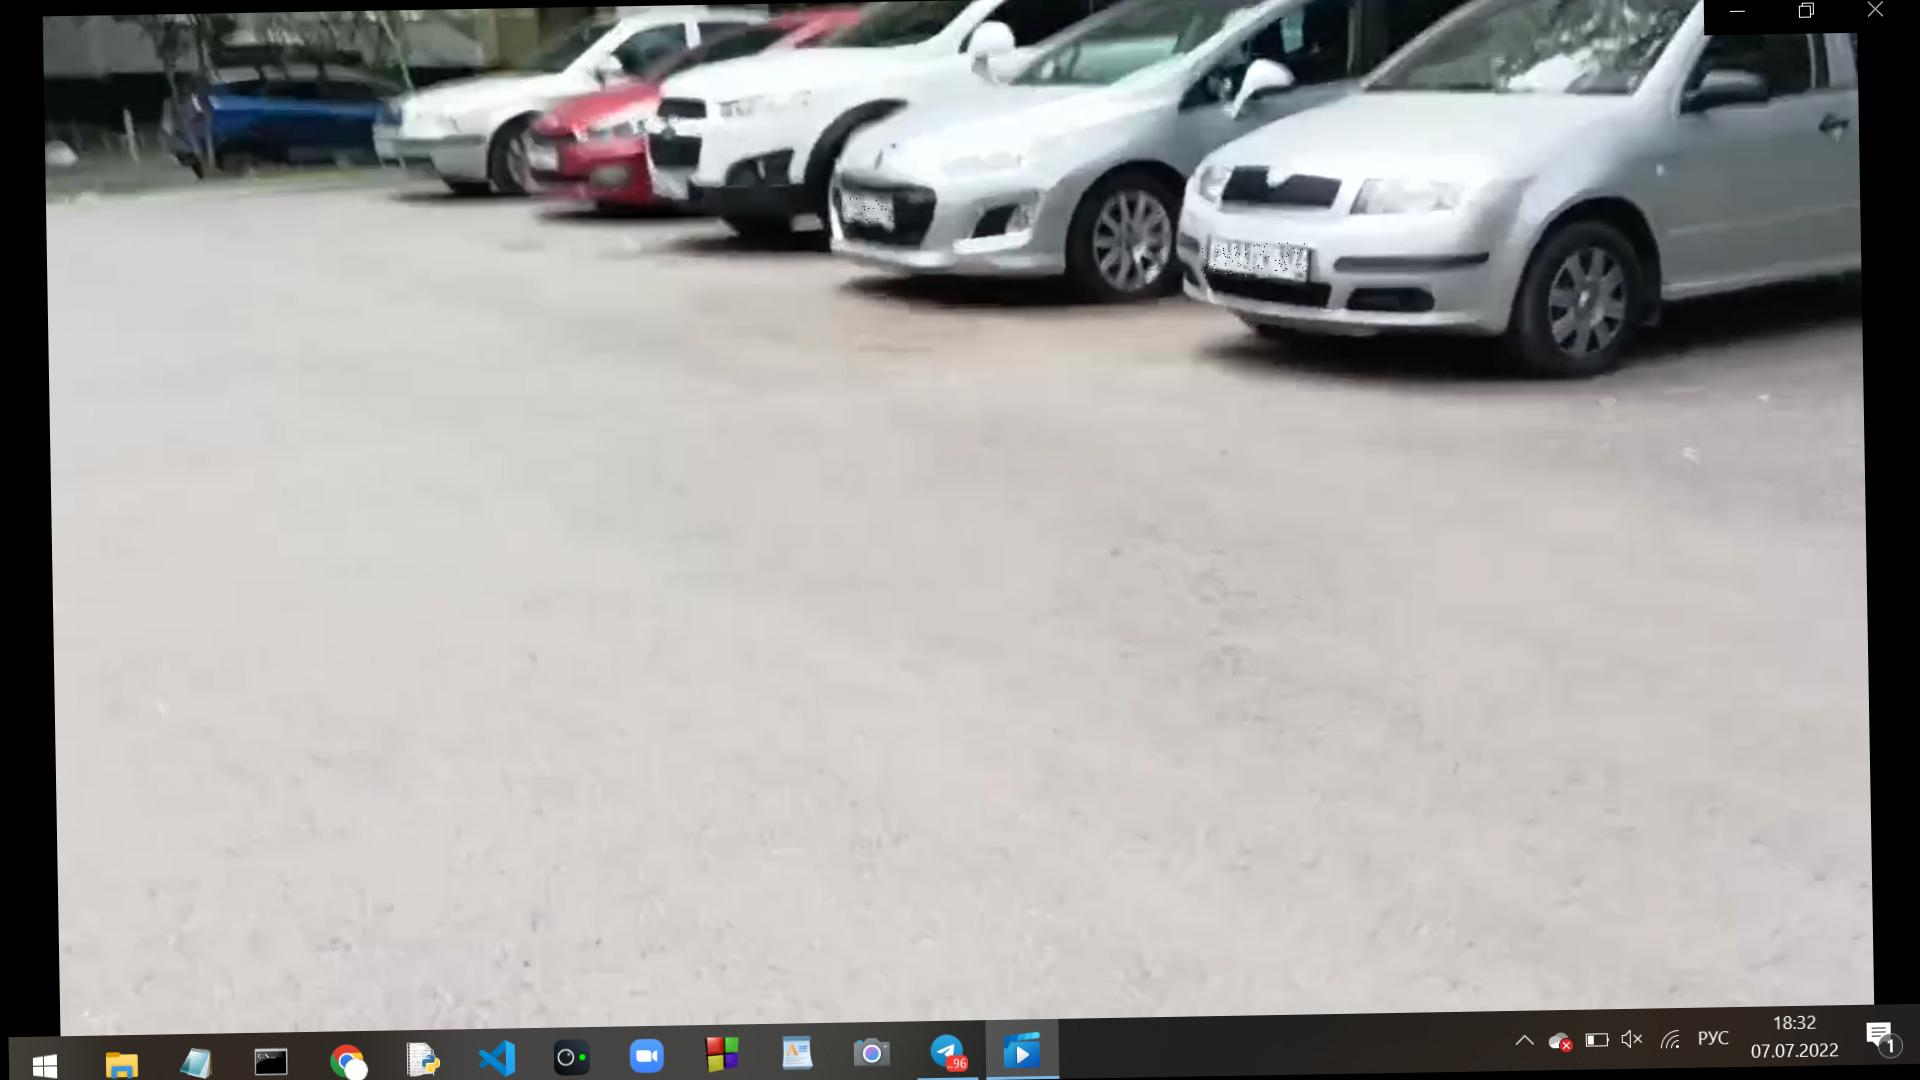plate: (1201, 244, 1310, 279), (844, 196, 901, 224)
